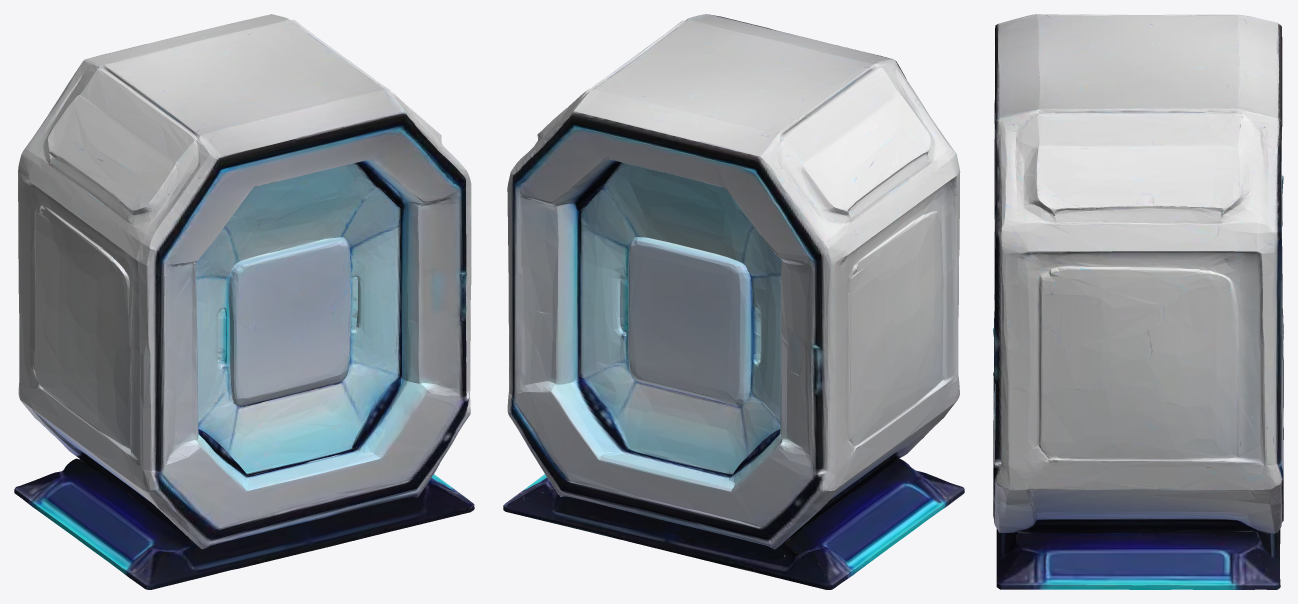
The model's file is prop_training_barrier.glb.
3 renders of one model, left to right at view 1: azimuth 30°, elevation 25°; view 2: azimuth 150°, elevation 25°; view 3: azimuth 270°, elevation 25°, orthographic. The views are drawn at different scales.
Parts seen in each view (by area): view 1: geometry_0; view 2: geometry_0; view 3: geometry_0.
Part boxes in pixels (x1=…): geometry_0: x1=14, y1=14, x2=474, y2=589; geometry_0: x1=503, y1=14, x2=964, y2=589; geometry_0: x1=993, y1=14, x2=1283, y2=589.
Bounding box in the file's own units: 0.8227 × 0.9955 × 0.5902.
1 material, 1 textured.
